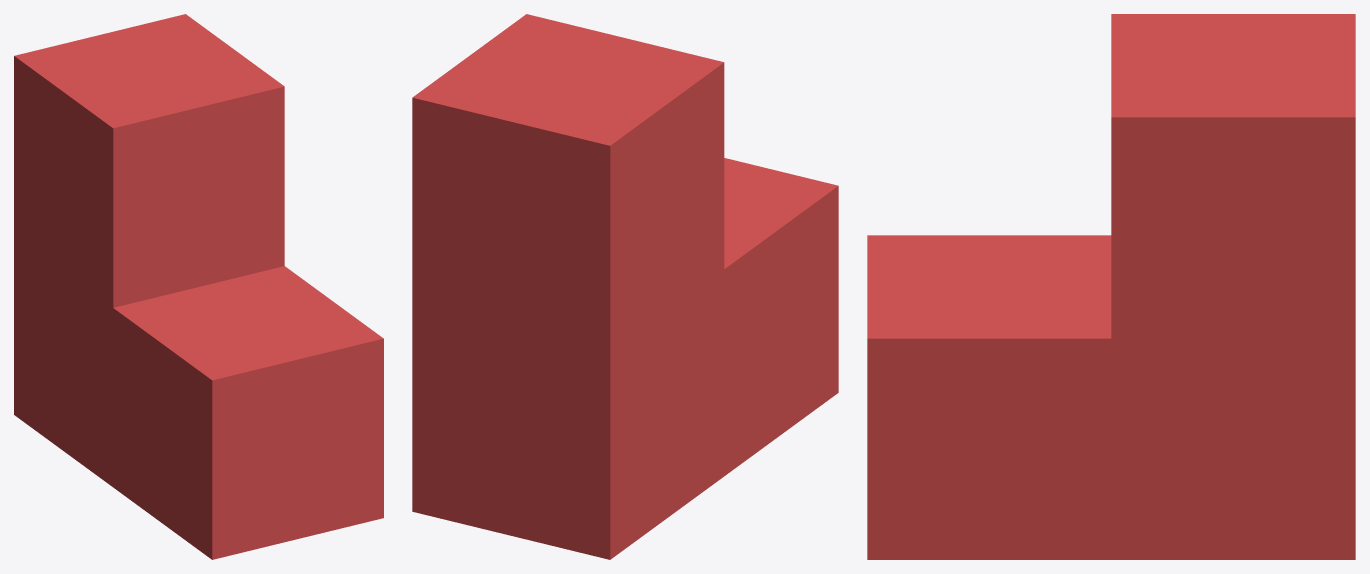
Rendered from lblock.fbx.
3 renders of one model, left to right at view 1: azimuth 30°, elevation 25°; view 2: azimuth 150°, elevation 25°; view 3: azimuth 270°, elevation 25°, orthographic. The views are drawn at different scales.
Parts seen in each view (by area): view 1: Cube.002, Cube.001, Cube; view 2: Cube.002, Cube, Cube.001; view 3: Cube.002, Cube.001, Cube.
Part boxes in pixels (box(x1,y1,x2,y2)): Cube.002: box(14, 14, 284, 307); Cube.001: box(113, 266, 383, 559); Cube: box(14, 235, 113, 486); Cube.002: box(412, 14, 724, 352); Cube: box(412, 270, 724, 559); Cube.001: box(724, 158, 838, 475); Cube.002: box(1111, 14, 1355, 338); Cube.001: box(867, 235, 1111, 559); Cube: box(1111, 338, 1355, 559).
Bounding box in the file's own units: 0.5 × 1 × 1.
